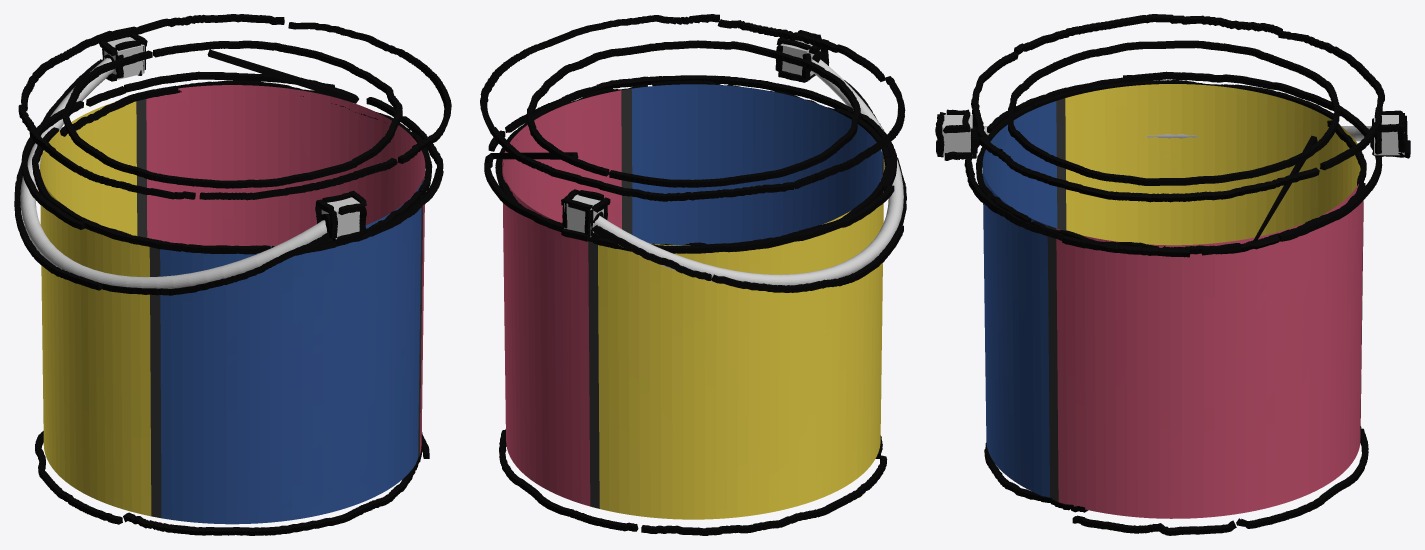
The model's file is paintbucket.fbx.
3 renders of one model, left to right at view 1: azimuth 30°, elevation 25°; view 2: azimuth 150°, elevation 25°; view 3: azimuth 270°, elevation 25°, orthographic.
Visible parts, largest first — view 1: bucket, GP_Layer, handle, rotaty; view 2: bucket, GP_Layer, handle, rotaty; view 3: bucket, GP_Layer, rotaty.
Part boxes in pixels (<box>): bucket: <box>40,85,425,524</box>; GP_Layer: <box>14,14,451,535</box>; handle: <box>20,58,327,288</box>; rotaty: <box>102,37,359,239</box>; bucket: <box>502,84,884,519</box>; GP_Layer: <box>480,14,906,535</box>; handle: <box>594,59,903,285</box>; rotaty: <box>564,40,820,237</box>; bucket: <box>982,84,1363,518</box>; GP_Layer: <box>935,14,1410,535</box>; rotaty: <box>942,115,1404,155</box>.
Bounding box in the file's own units: 224 × 203 × 249.
